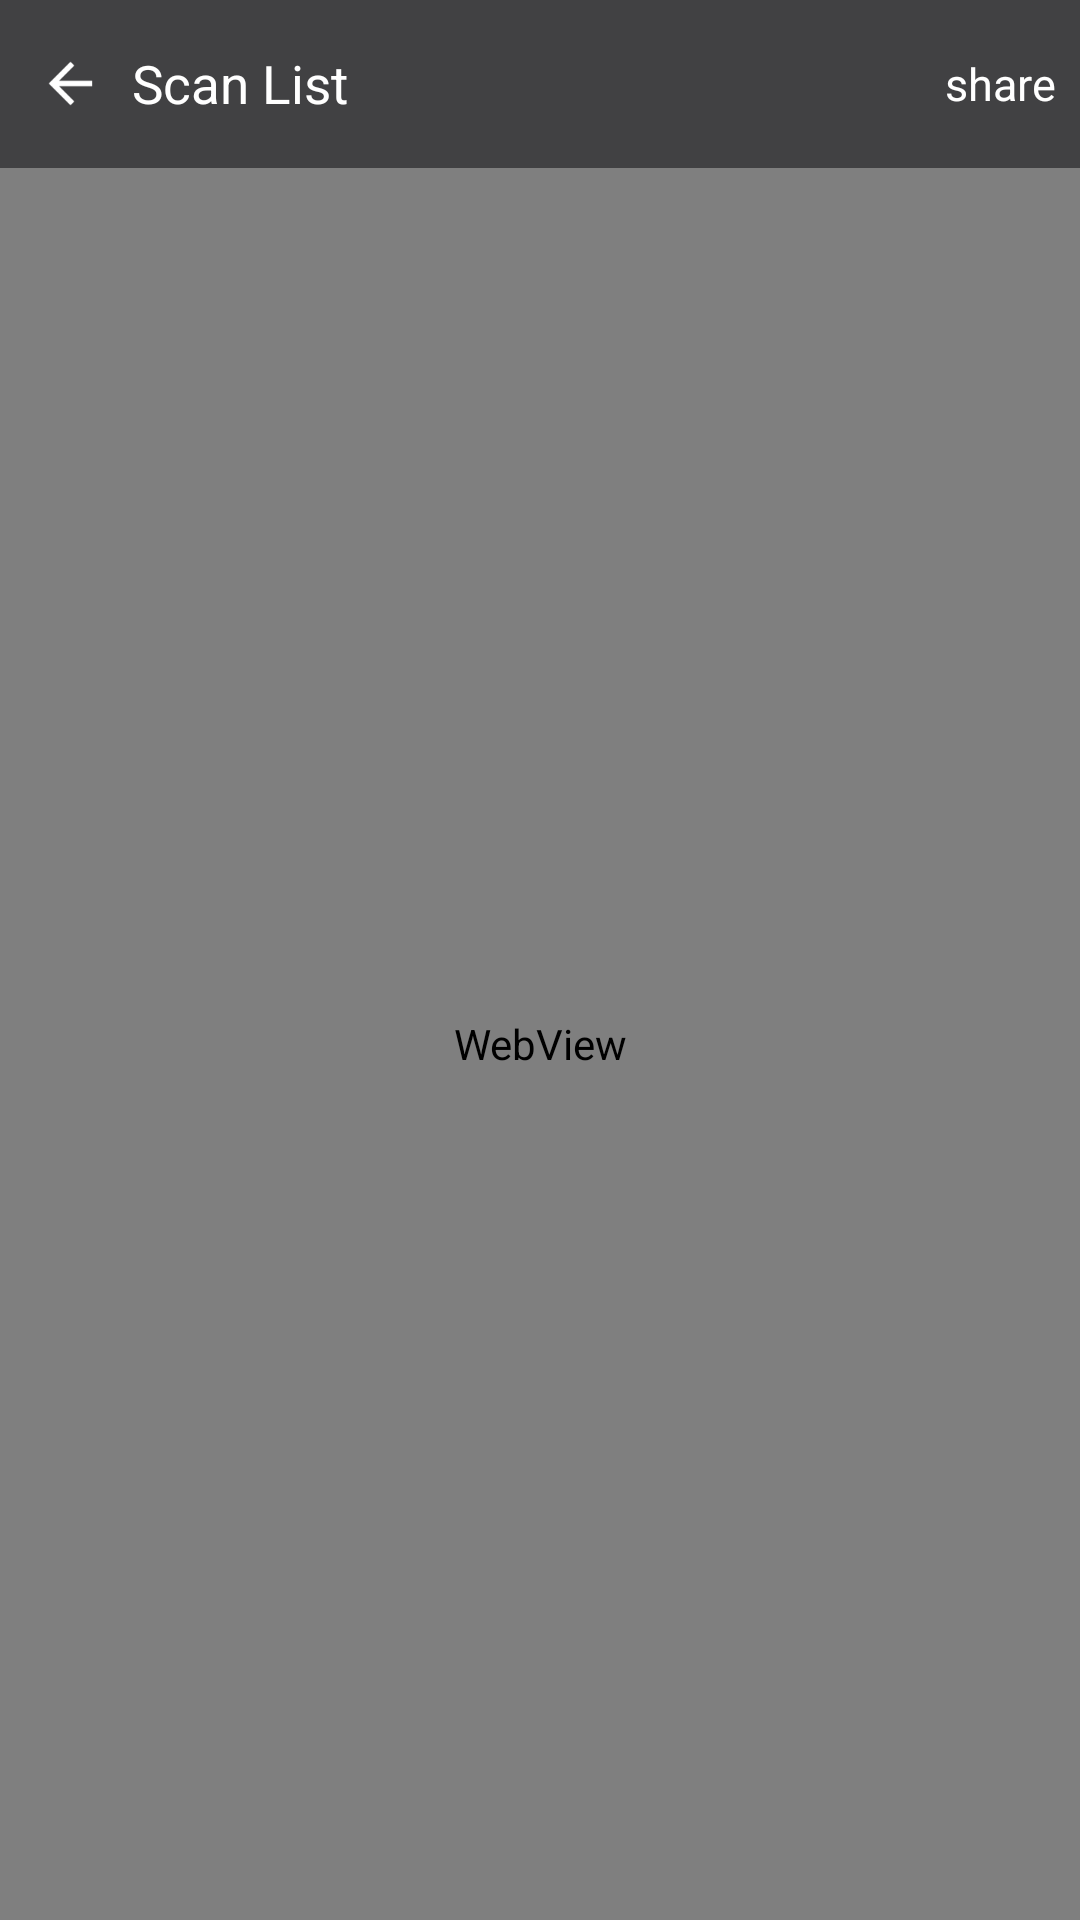

Locate icon controls on the screen. Image size 1080x1920, boxes as (x1, y1, x2, y2).
back: (49, 62, 93, 105)
